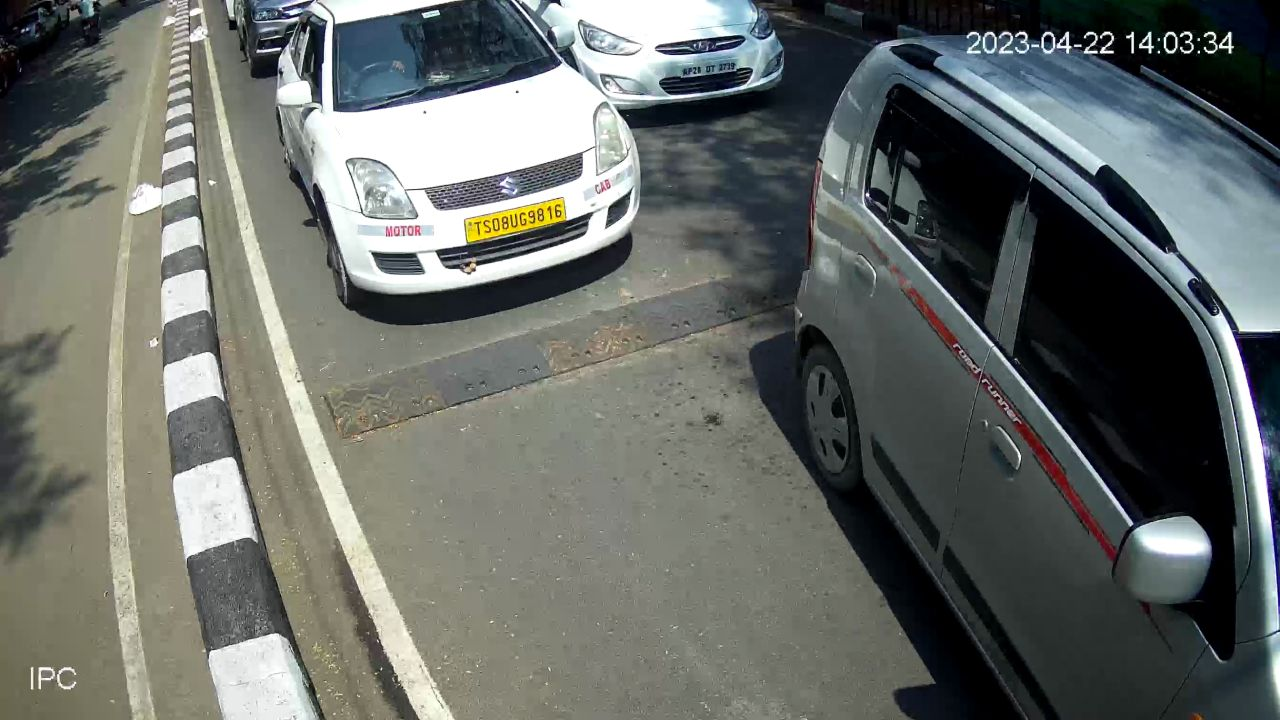license_plate: (455, 191, 572, 249), (672, 54, 743, 82)
